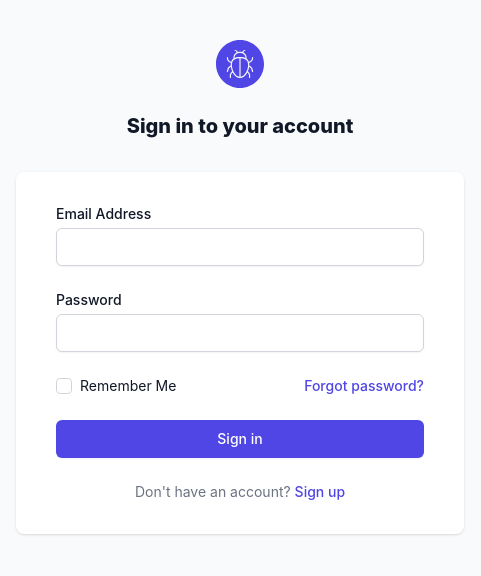
it: Login test › verifies the blank field validation
The width and height of the screenshot is (481, 576).
What coordinates should you click on to do the following:
click the button with id "login-submit"
I would click on:
 (240, 439)
Its box is [56,420,424,458].
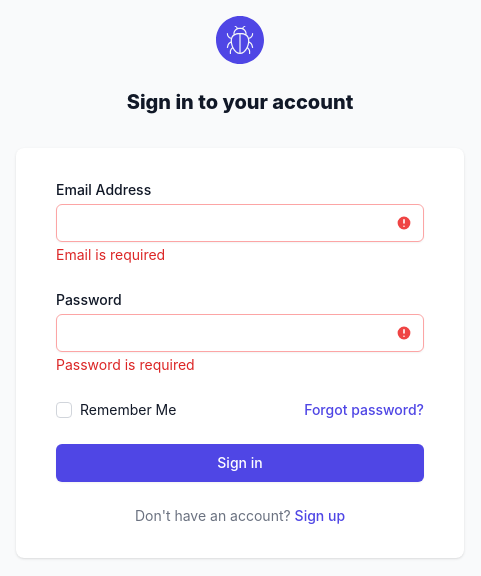
Result: the text "Email is required" is shown at [56,246,165,263]
